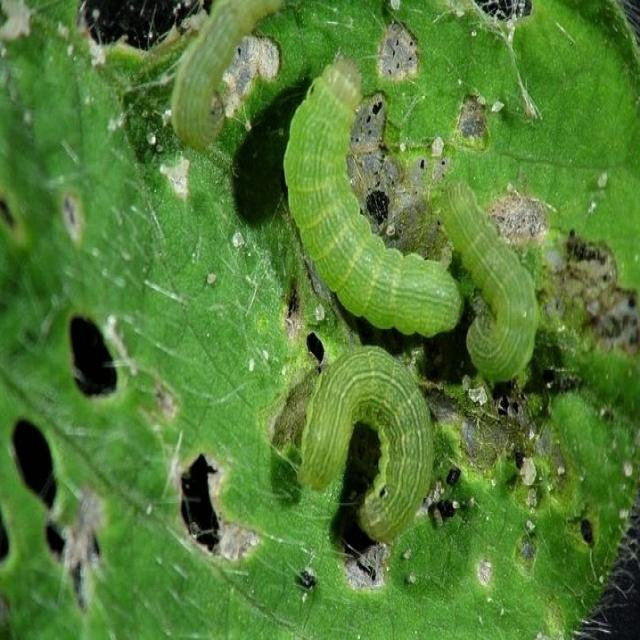armyworm: (282, 55, 464, 338), (296, 343, 434, 547), (438, 178, 540, 383)
